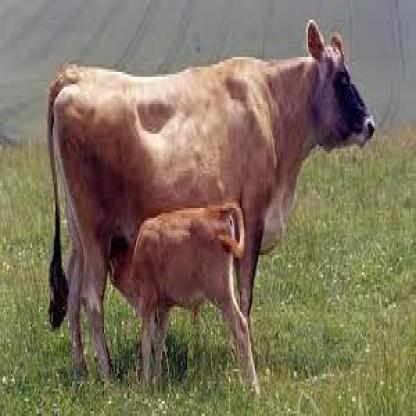cow: (47, 20, 375, 389), (107, 202, 260, 395)
